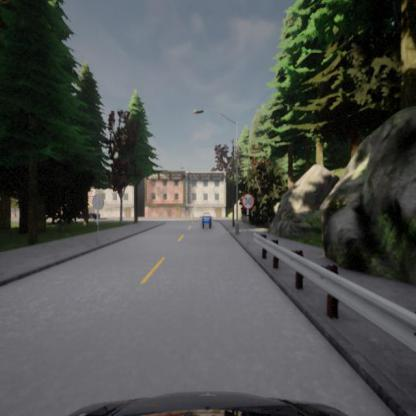traffic_sign_30: (242, 192, 256, 210)
